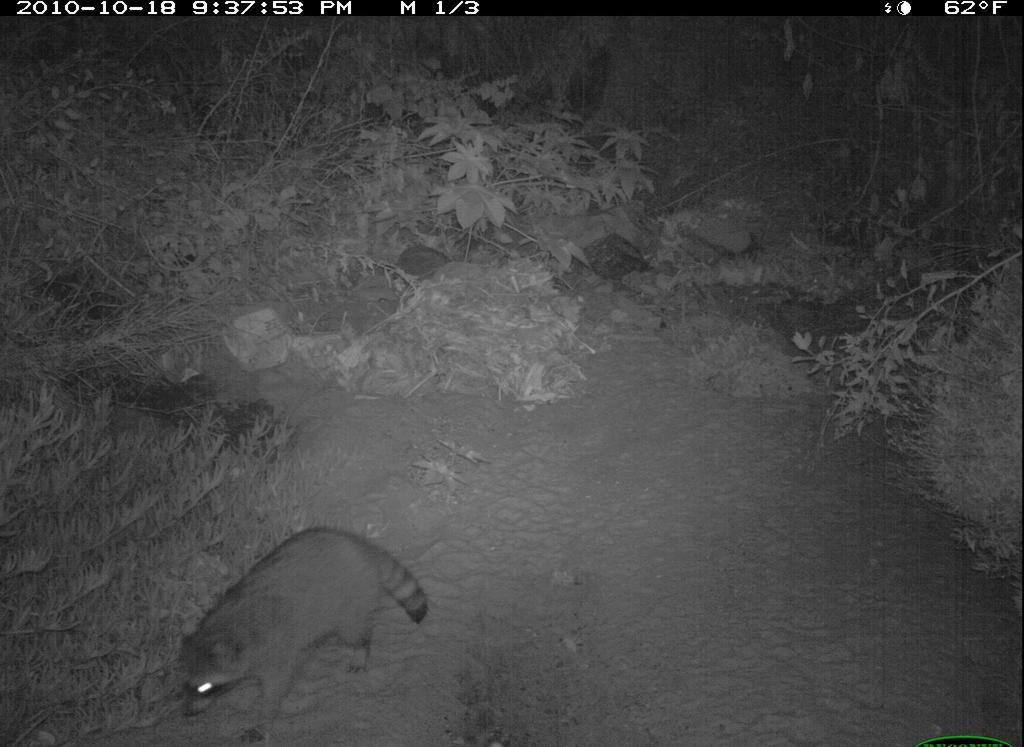raccoon: (171, 513, 437, 743)
